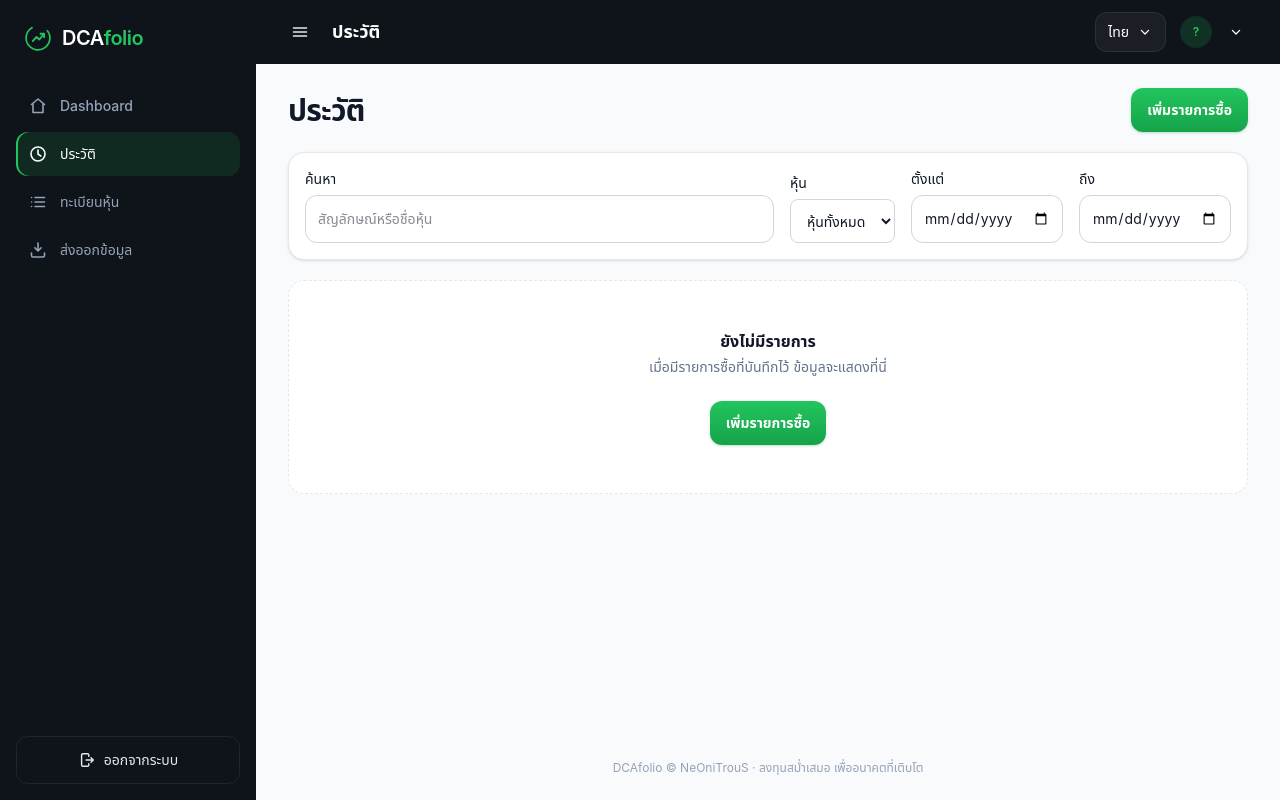
Test case: language across the signed-in application › opens the Add Purchase modal in the application language
expect the heading "ประวัติ" is shown: met, box x1=288 y1=92 x2=365 y2=128
Step 1. Click the button "ไทย" → click(1130, 32), box x1=1095 y1=12 x2=1166 y2=52
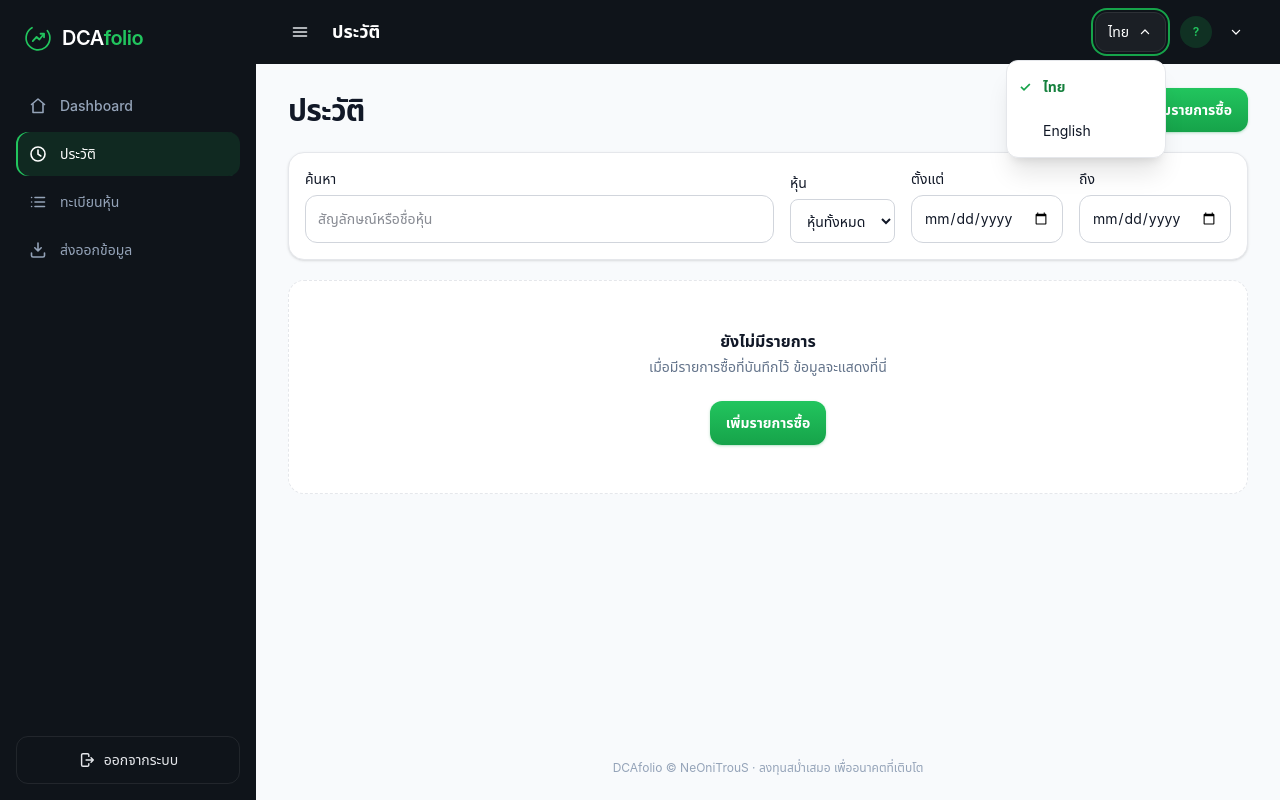
Step 2. Click the menu item "English" → click(1086, 131), box x1=1007 y1=109 x2=1165 y2=153
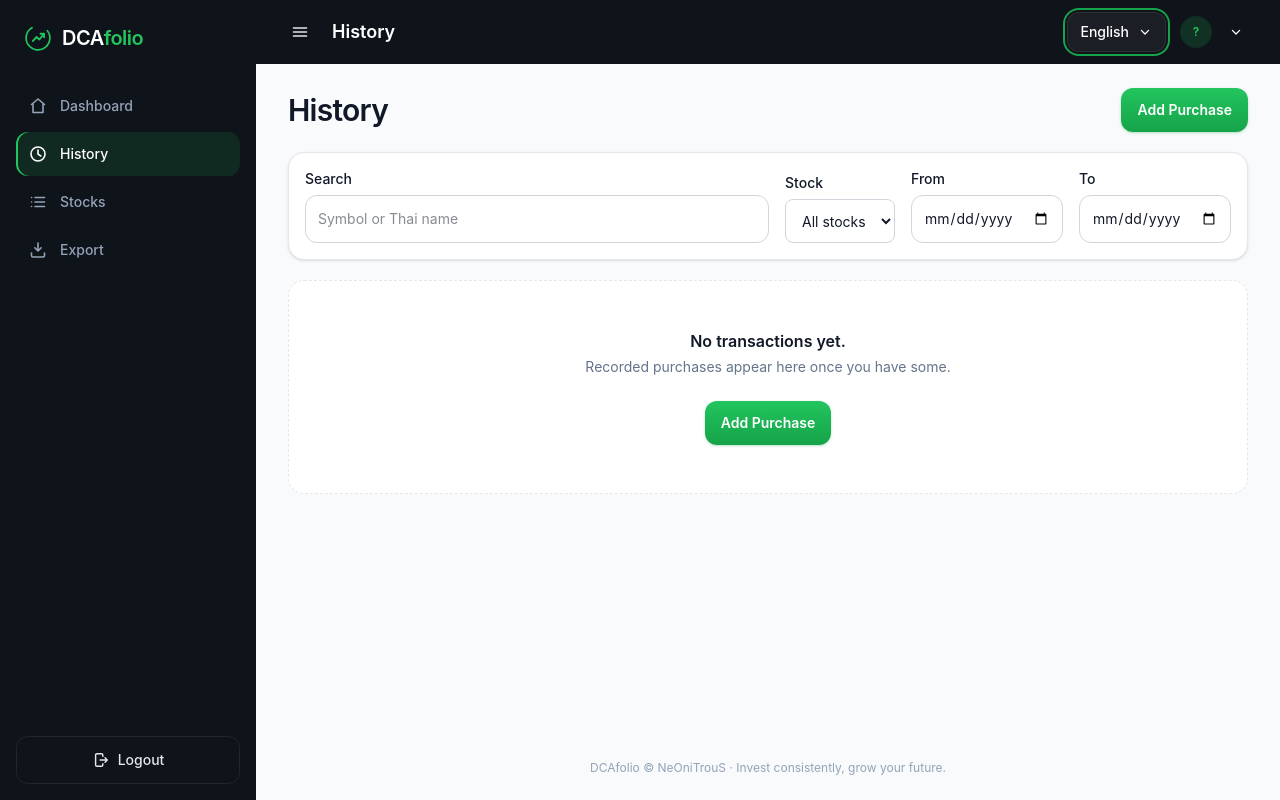
Step 3. Click the 1st button "Add Purchase" → click(1185, 110), box x1=1121 y1=88 x2=1248 y2=132
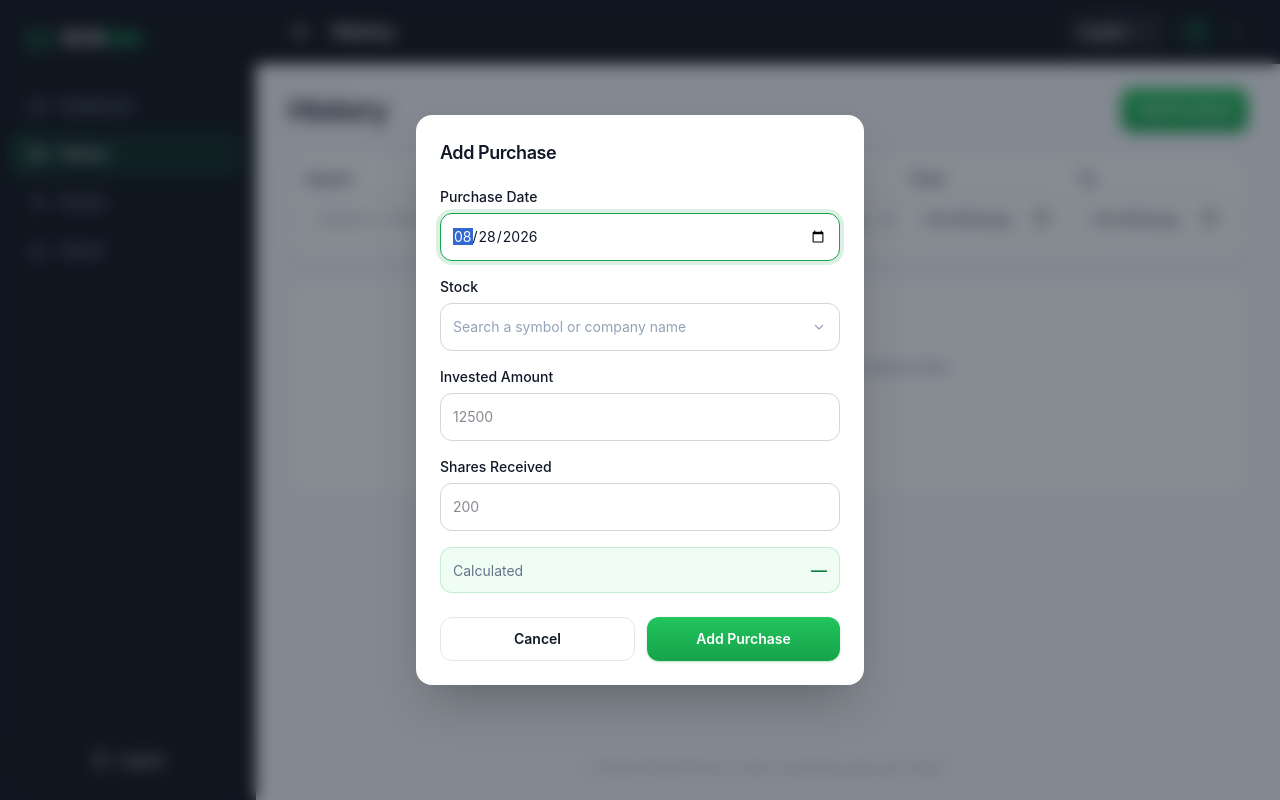
expect the date field labelled "Purchase Date" is shown: met, box x1=453 y1=227 x2=827 y2=247
expect the field labelled "Shares Received" is shown: met, box x1=453 y1=497 x2=827 y2=517
